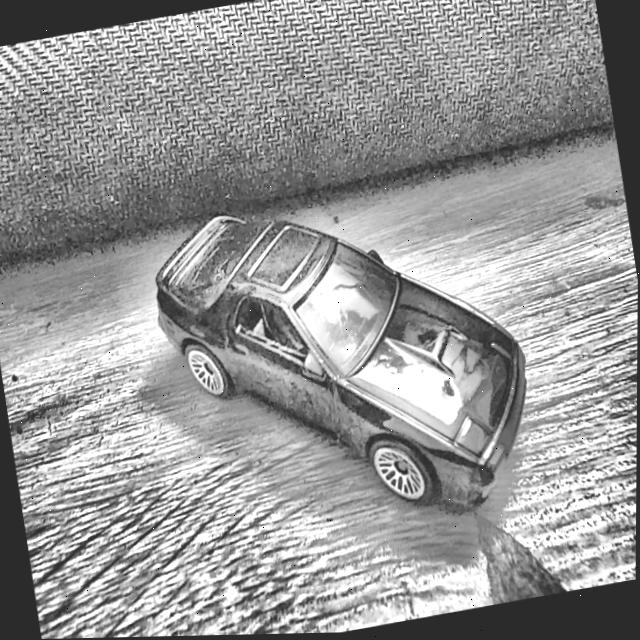car: (142, 166, 548, 563)
